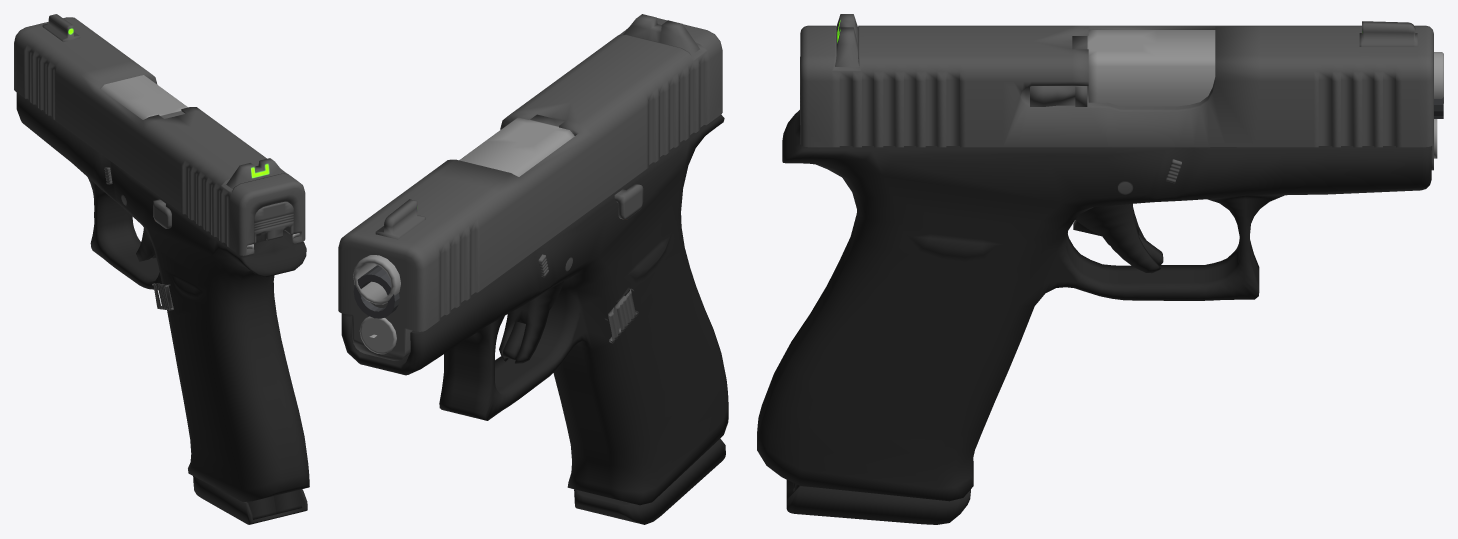
Rendered from glock_urpo.glb.
3 renders of one model, left to right at view 1: azimuth 30°, elevation 25°; view 2: azimuth 150°, elevation 25°; view 3: azimuth 270°, elevation 25°, orthographic. The views are drawn at different scales.
Parts seen in each view (by area): view 1: Frame, Slide, Magazine, RecoilSpring, Trigger; view 2: Frame, Slide, RecoilSpring, Magazine, Trigger, Barrel; view 3: Frame, Slide, RecoilSpring, Trigger.
Part boxes in pixels (left/top/right/bottom): Frame: left=16, top=92, right=309, bottom=501; Slide: left=14, top=14, right=305, bottom=255; Magazine: left=153, top=199, right=302, bottom=519; RecoilSpring: left=152, top=283, right=307, bottom=524; Trigger: left=136, top=228, right=156, bottom=261; Frame: left=341, top=114, right=728, bottom=505; Slide: left=338, top=14, right=722, bottom=360; RecoilSpring: left=574, top=288, right=725, bottom=524; Magazine: left=359, top=184, right=643, bottom=354; Trigger: left=499, top=281, right=563, bottom=364; Barrel: left=353, top=265, right=399, bottom=318; Frame: left=757, top=110, right=1431, bottom=501; Slide: left=800, top=14, right=1443, bottom=170; RecoilSpring: left=786, top=480, right=970, bottom=524; Trigger: left=1073, top=204, right=1163, bottom=273.
Size of the model in its own units: 0.2574 by 1.15 by 1.48.
4 materials, 3 textured.
